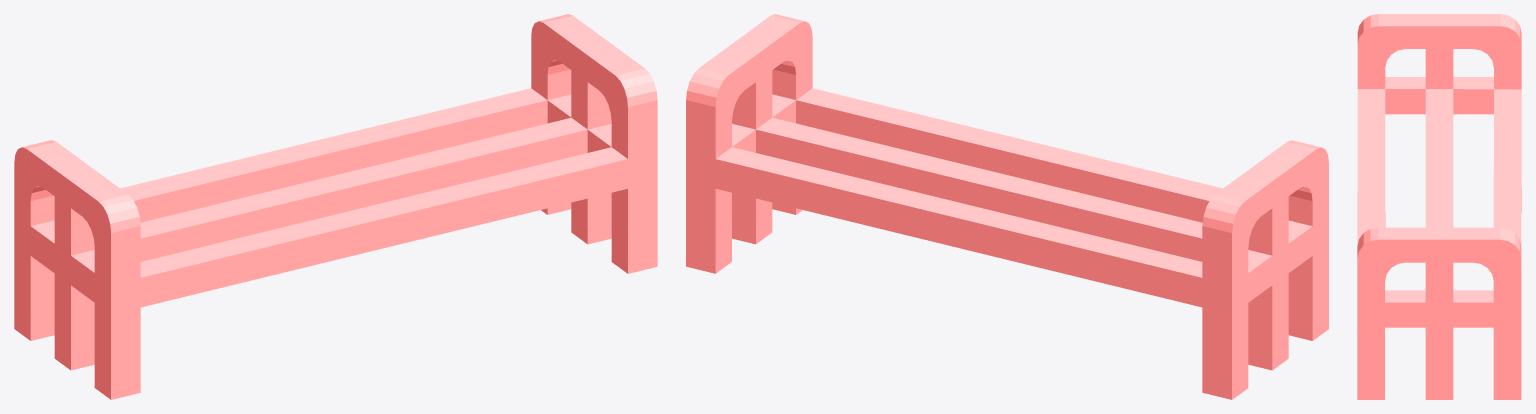
Rendered from Provider - Shoes - Work Boots.fbx.
The picture shows the model from 3 angles, left to right: view 1: azimuth 30°, elevation 25°; view 2: azimuth 150°, elevation 25°; view 3: azimuth 270°, elevation 25°; orthographic projection. The views are drawn at different scales.
Parts seen in each view (by area): view 1: ShoeRack; view 2: ShoeRack; view 3: ShoeRack.
Part boxes in pixels (x1=…): ShoeRack: x1=14, y1=14, x2=657, y2=399; ShoeRack: x1=686, y1=14, x2=1328, y2=399; ShoeRack: x1=1357, y1=14, x2=1521, y2=399.
Size of the model in its own units: 94.07 by 31.12 by 28.91.
